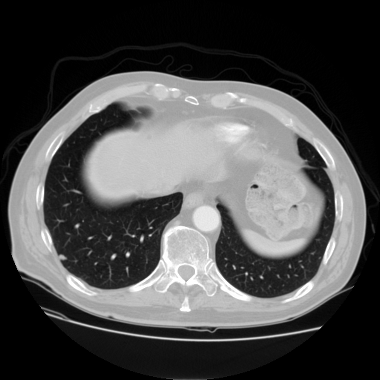nodule: (58, 253, 66, 261)
